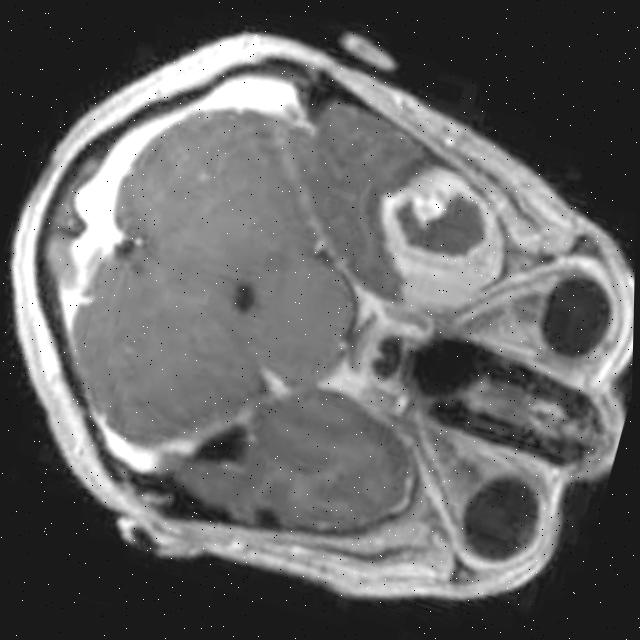Meningioma: (354, 146, 529, 331)
